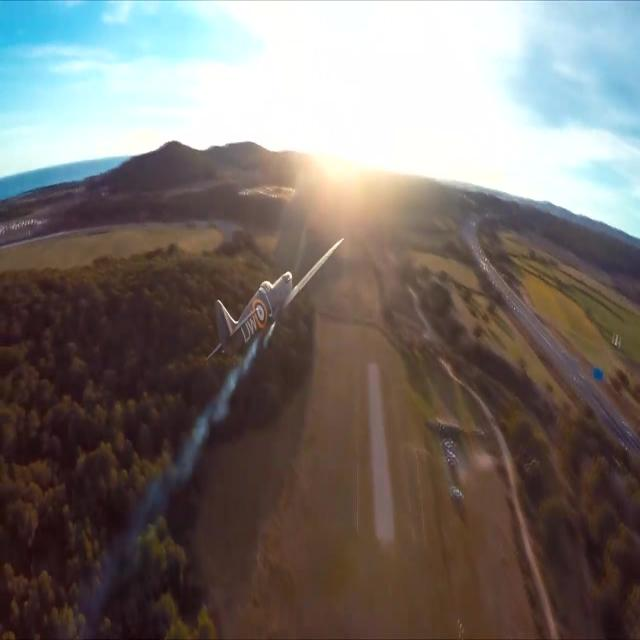iha: (202, 235, 346, 365)
